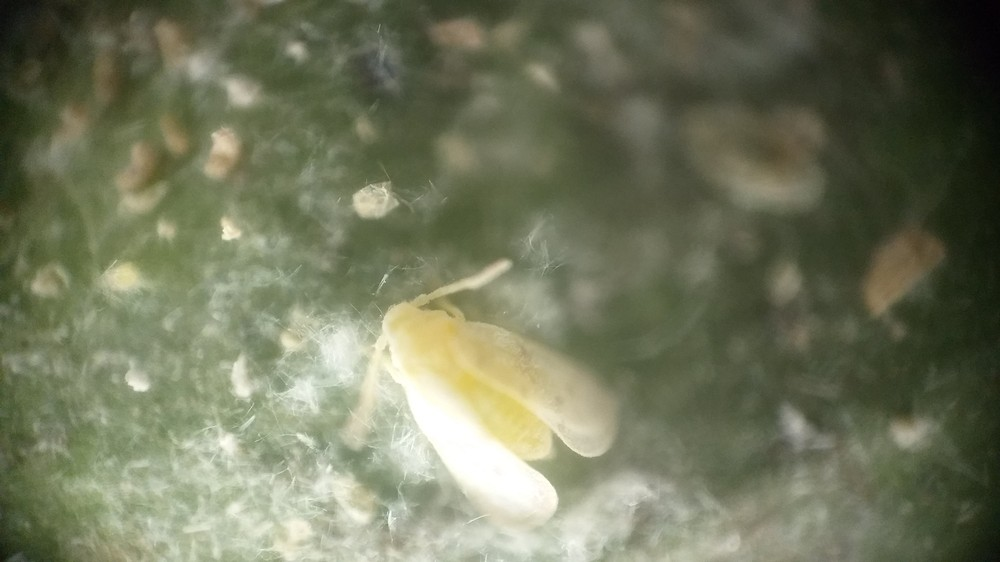Mosca Blanca: (328, 249, 651, 544)
